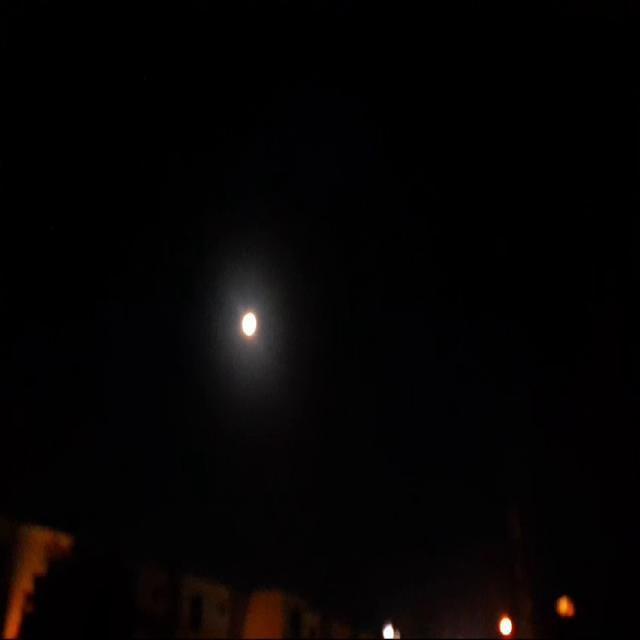moon: (228, 309, 250, 348)
